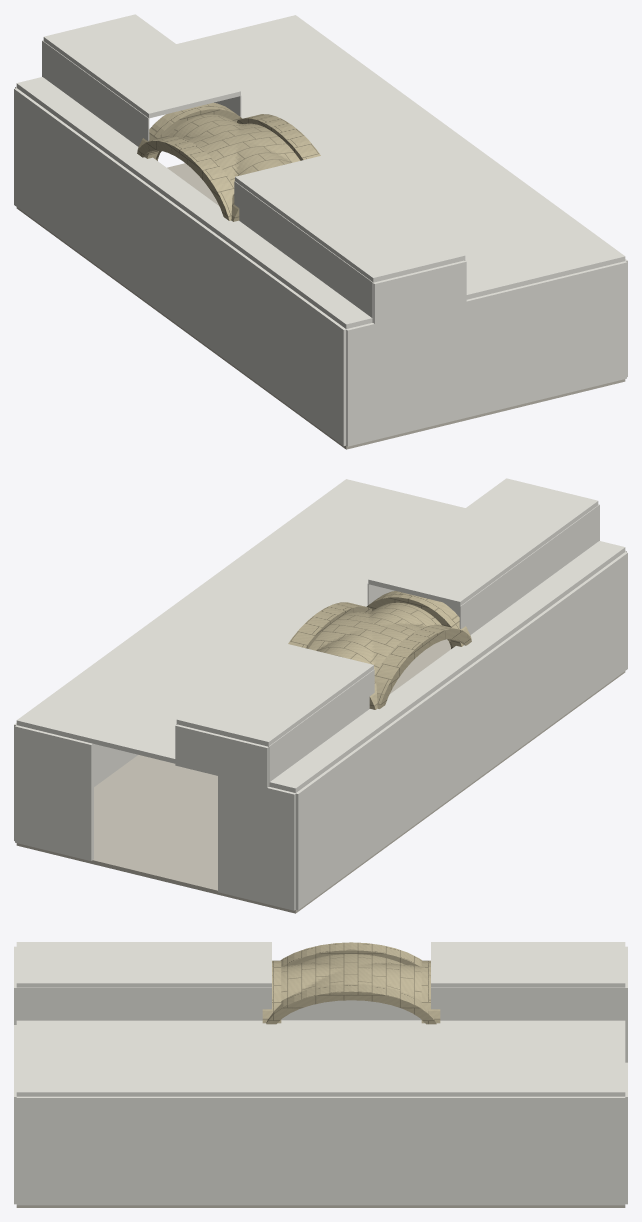
Rendered from rachel-tomb-interior-v148.glb.
The picture shows the model from 3 angles, top to bottom: view 1: azimuth 30°, elevation 25°; view 2: azimuth 150°, elevation 25°; view 3: azimuth 270°, elevation 25°; orthographic projection. The views are drawn at different scales.
Parts seen in each view (by area): view 1: Rachel_Prayer_Interior_white, Rachel_Prayer_Interior_stone, Rachel_Prayer_Interior_floor; view 2: Rachel_Prayer_Interior_white, Rachel_Prayer_Interior_floor, Rachel_Prayer_Interior_stone; view 3: Rachel_Prayer_Interior_white, Rachel_Prayer_Interior_stone, Rachel_Prayer_Interior_floor.
Boxes of the visible parts, x1,y1,x2,y2 form: Rachel_Prayer_Interior_white: (14, 14, 627, 446); Rachel_Prayer_Interior_stone: (137, 102, 320, 221); Rachel_Prayer_Interior_floor: (16, 163, 625, 449); Rachel_Prayer_Interior_white: (14, 478, 627, 910); Rachel_Prayer_Interior_floor: (16, 639, 625, 913); Rachel_Prayer_Interior_stone: (288, 591, 471, 709); Rachel_Prayer_Interior_white: (14, 942, 627, 1205); Rachel_Prayer_Interior_stone: (262, 942, 440, 1024); Rachel_Prayer_Interior_floor: (16, 1205, 625, 1207).
Bounding box in the file's own units: 8.96 × 4.97 × 18.16.
Materials: 8 (1 with a texture image).
